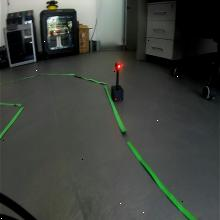red: (115, 61, 122, 71)
